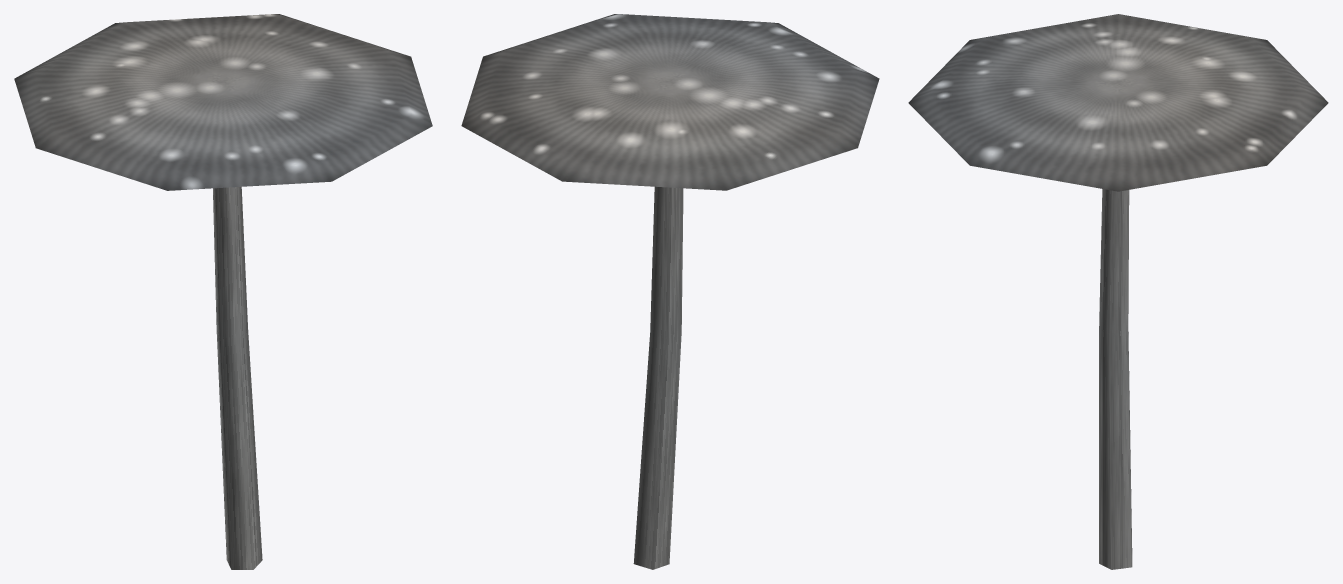
The model's file is parasol_l1.gltf.
3 views of the same model, side by side, from view 1: azimuth 30°, elevation 25°; view 2: azimuth 150°, elevation 25°; view 3: azimuth 270°, elevation 25° (orthographic). The views are drawn at different scales.
Parts seen in each view (by area): view 1: parasol_l1; view 2: parasol_l1; view 3: parasol_l1.
Boxes of the visible parts, <box> form: parasol_l1: <box>14,14,432,569</box>; parasol_l1: <box>461,14,879,569</box>; parasol_l1: <box>908,14,1328,569</box>.
Size of the model in its own units: 2 by 2.48 by 2.
Materials: 2 (2 with a texture image).
